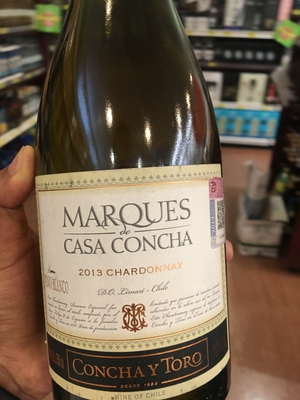marques de casa concha chardonnay: (31, 1, 246, 400)
